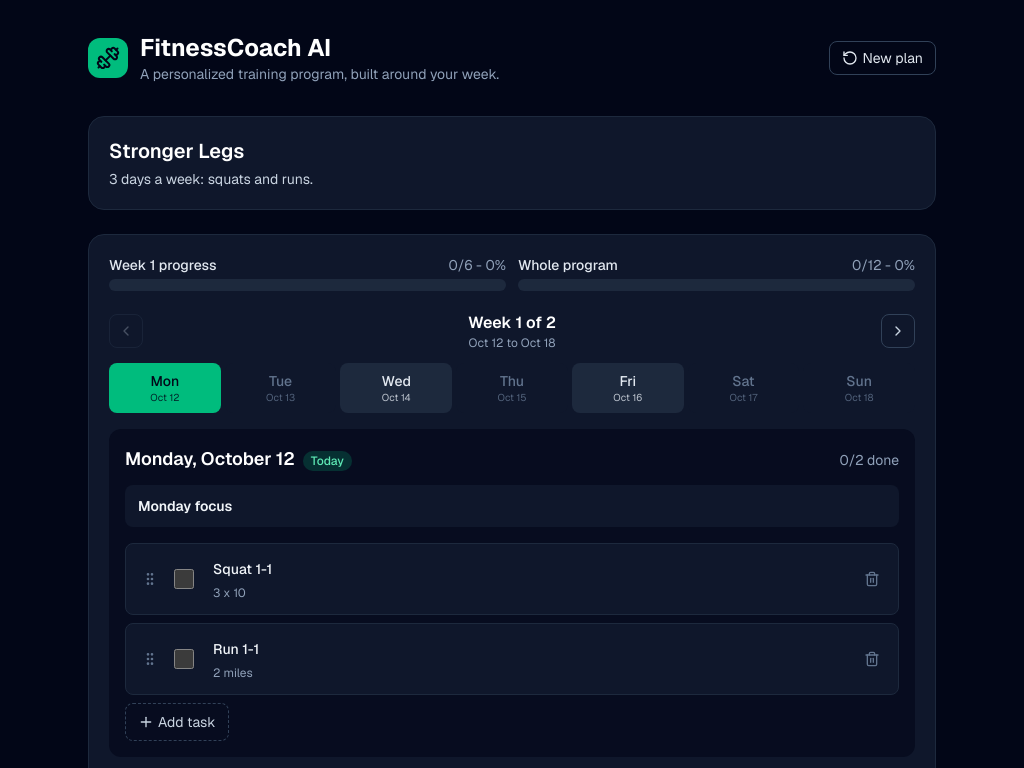
it: dashboard: ticking tasks updates progress › unticking reverses it
Expected: the heading "Stronger Legs" is shown, x1=109 y1=138 x2=244 y2=164
What coordinates should you click on to do the following:
click the checkbox named "Mark complete: Squat 1-1"
I would click on:
 (184, 579)
Its box is x1=174 y1=569 x2=194 y2=589.
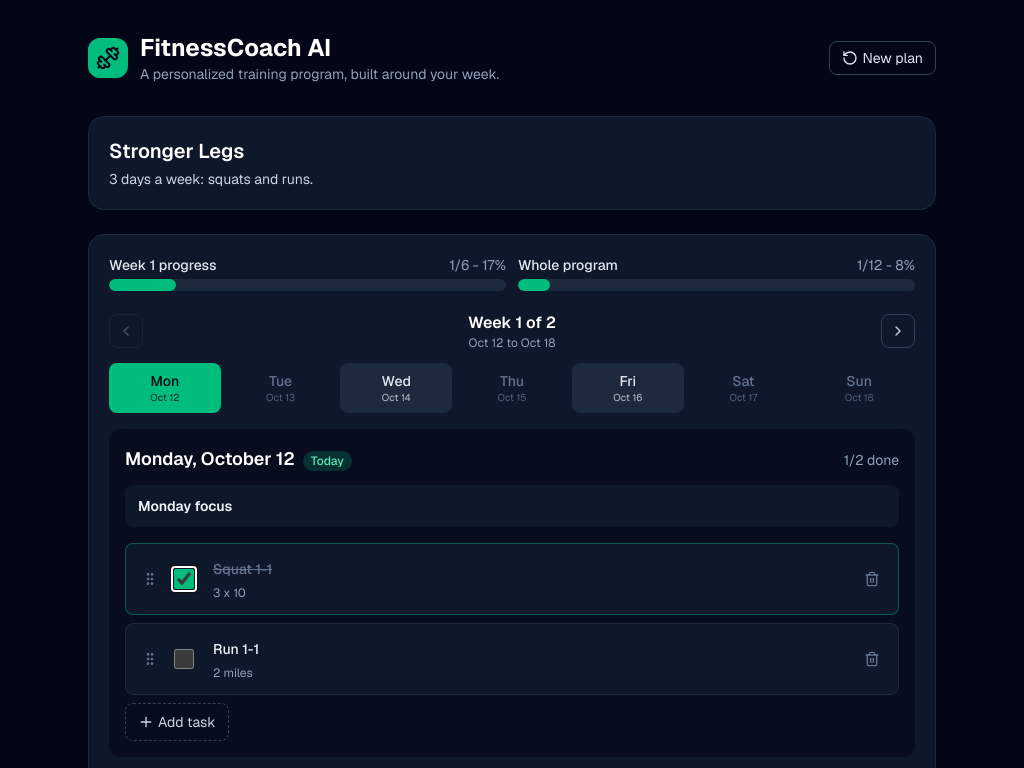
What coordinates should you click on to do the following:
click the checkbox named "Mark complete: Squat 1-1"
I would click on:
 (184, 579)
Its box is x1=174 y1=569 x2=194 y2=589.
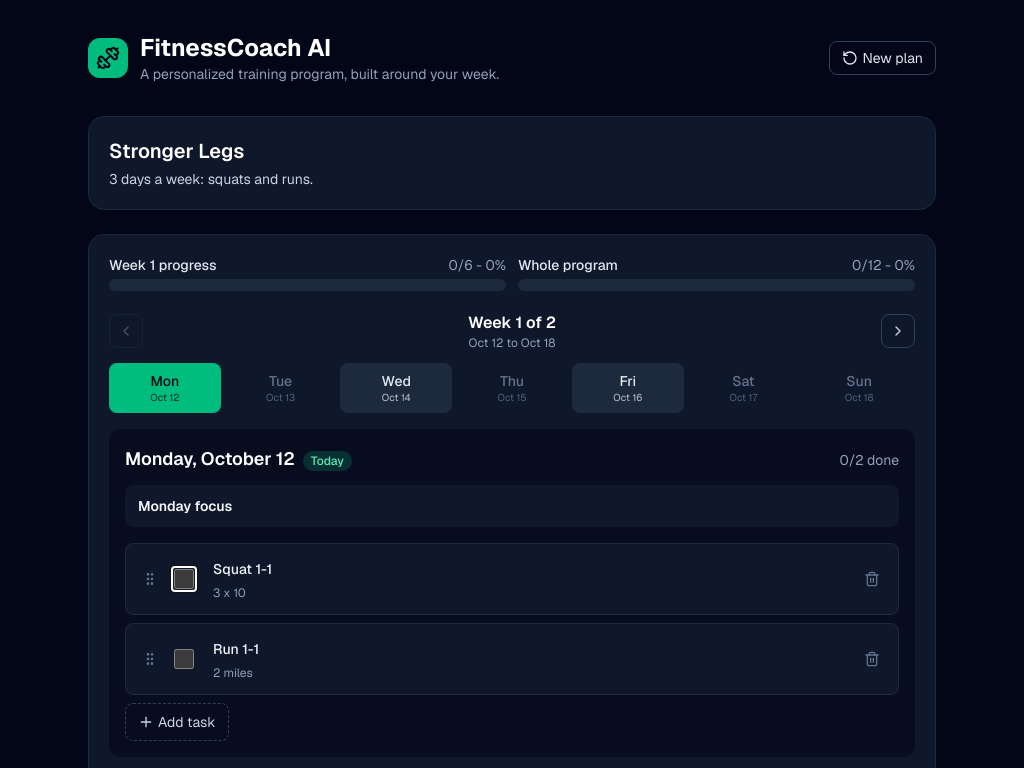
Result: the checkbox named "Mark complete: Squat 1-1" is not checked at x1=174 y1=569 x2=194 y2=589
Result: the text "0/6 - 0%" is shown at x1=448 y1=255 x2=506 y2=275
